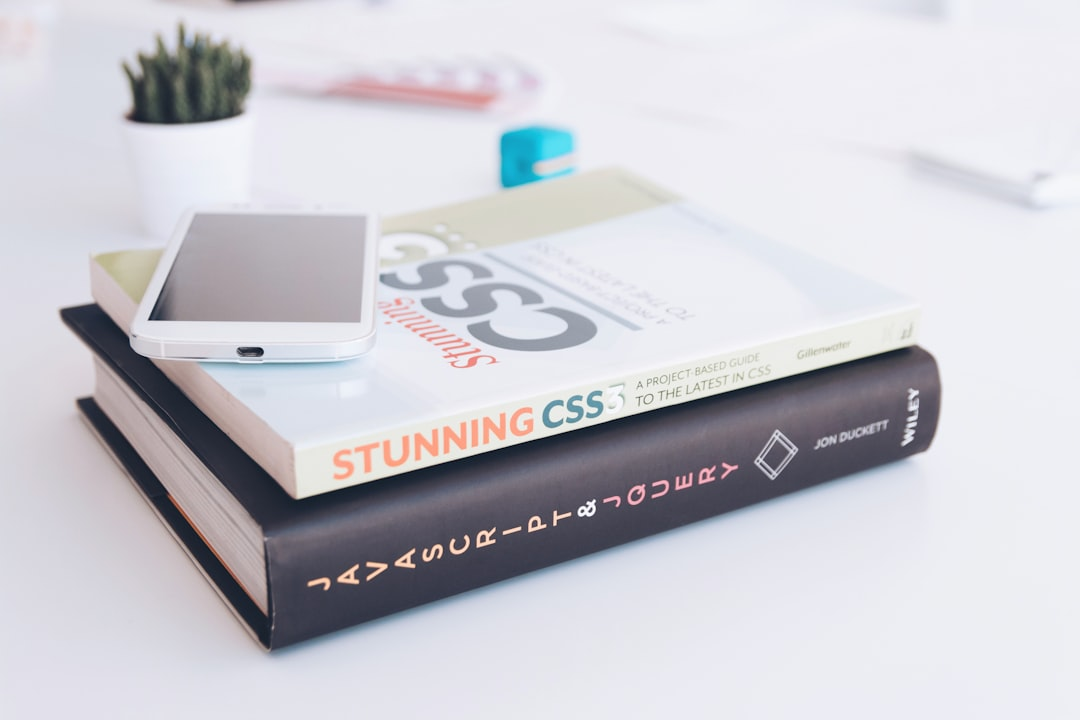phone: (130, 195, 380, 372)
